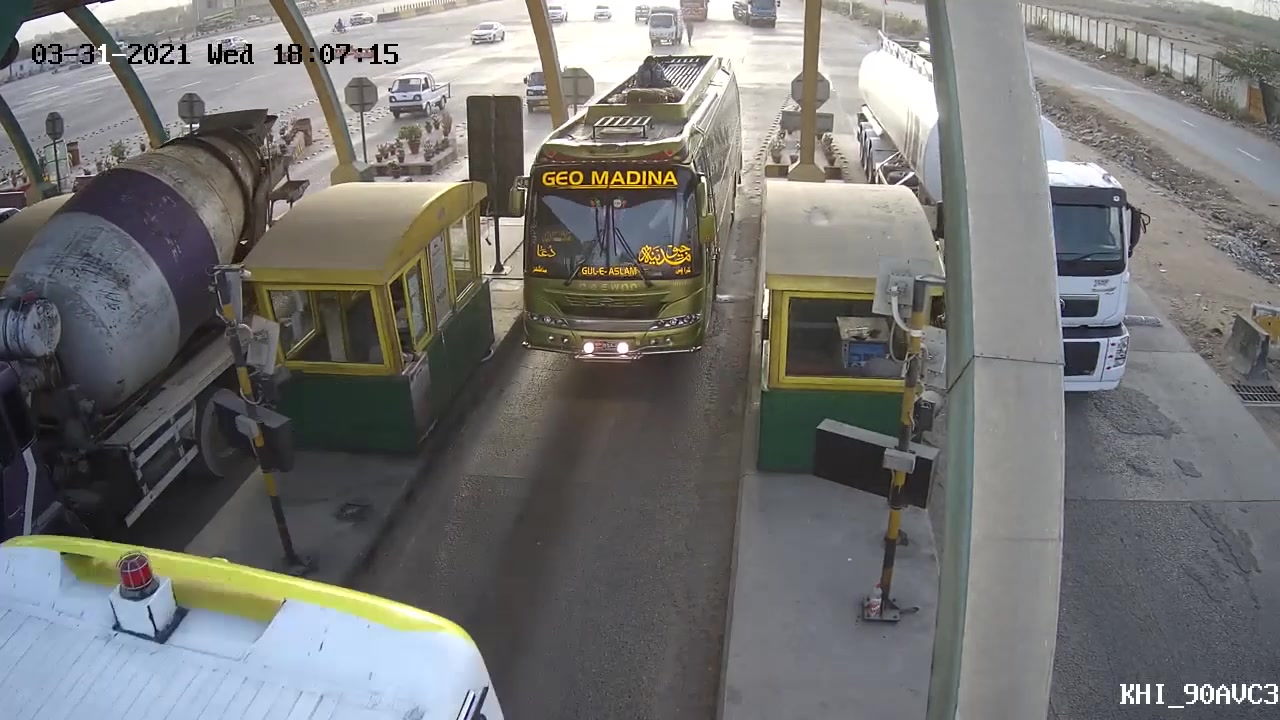F4: (499, 47, 745, 368)
